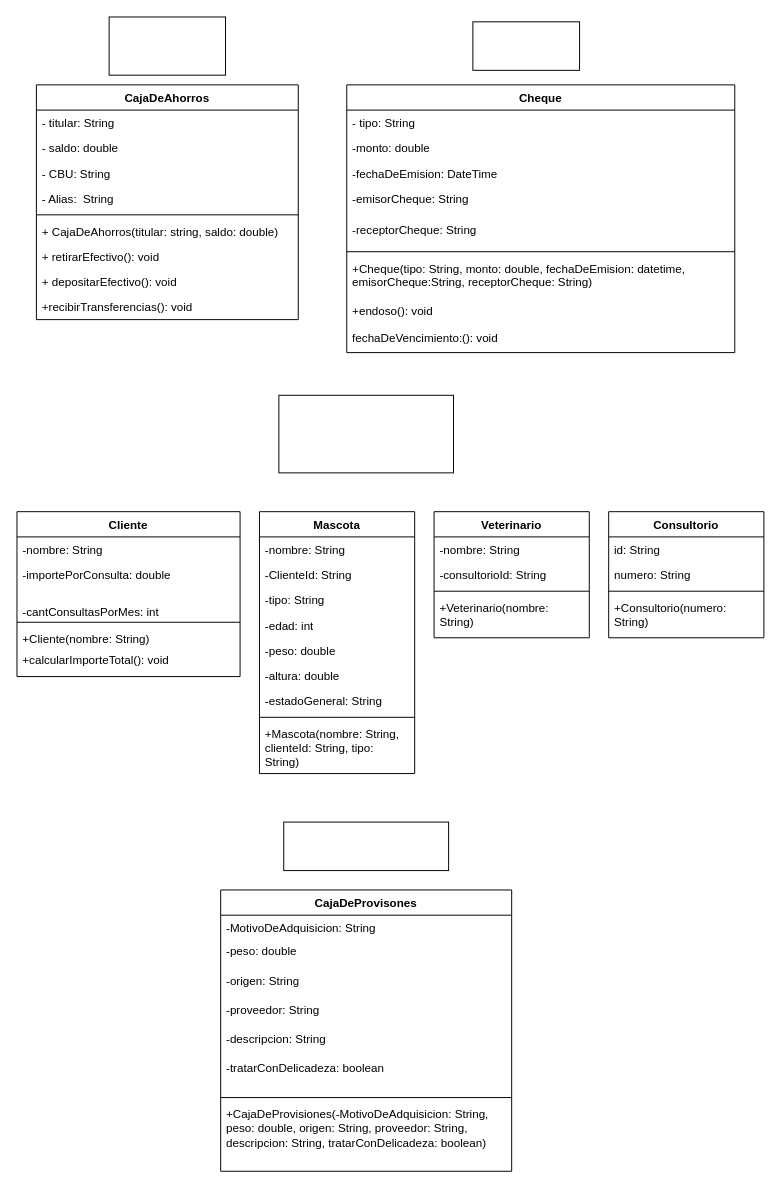
This 781x1191 diagram has some shape labels left out. Each missing label, with the centre of its shape:
"Ejercicio 1: modelar caja de ahorros" goes at point 167,45.
"Ejercicio 2: modelar Cheque" goes at point 526,45.
"Ejercicio 3: modelar todas las clases presentes en el enunciado" goes at point 365,433.
"Ejercicio 4: modelar caja de provisiones" goes at point 366,846.
